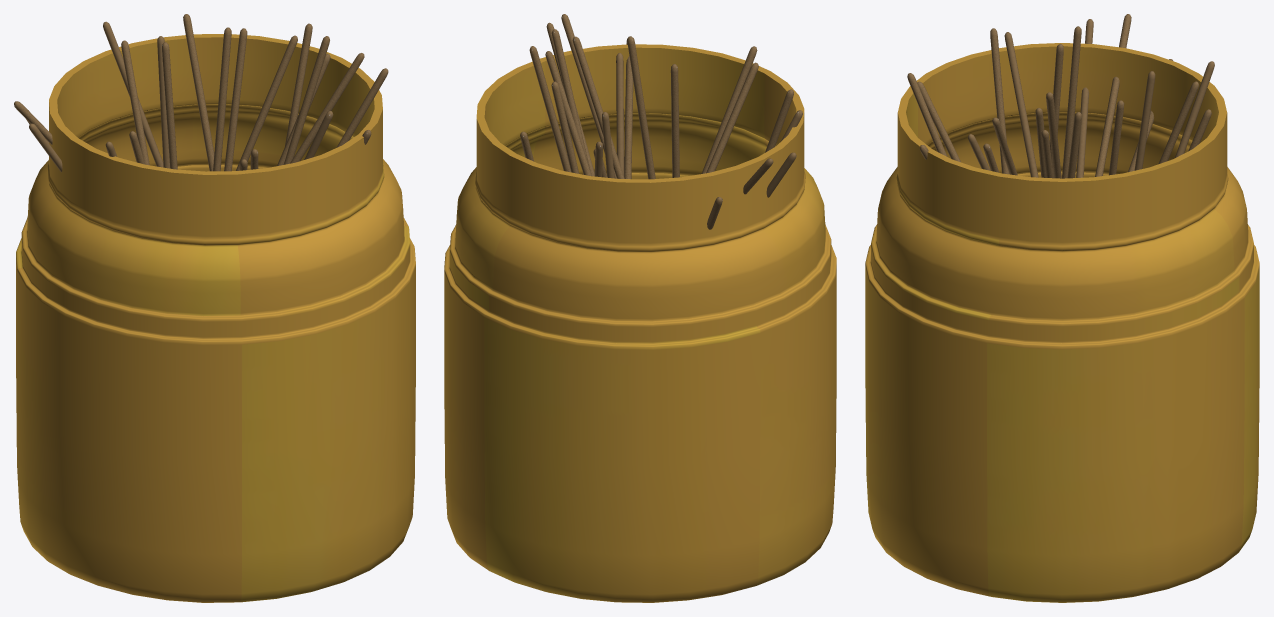
Rendered from z1_vaso_incienso.obj.
3 renders of one model, left to right at view 1: azimuth 30°, elevation 25°; view 2: azimuth 150°, elevation 25°; view 3: azimuth 270°, elevation 25°, orthographic.
Parts seen in each view (by area): view 1: IncenseStick; view 2: IncenseStick; view 3: IncenseStick.
Boxes of the visible parts, left/top/right/bottom form: IncenseStick: left=14, top=14, right=415, bottom=602; IncenseStick: left=444, top=14, right=836, bottom=602; IncenseStick: left=865, top=14, right=1259, bottom=602.
Size of the model in its own units: 0.1461 by 0.2 by 0.1461.
23 materials, 23 textured.
